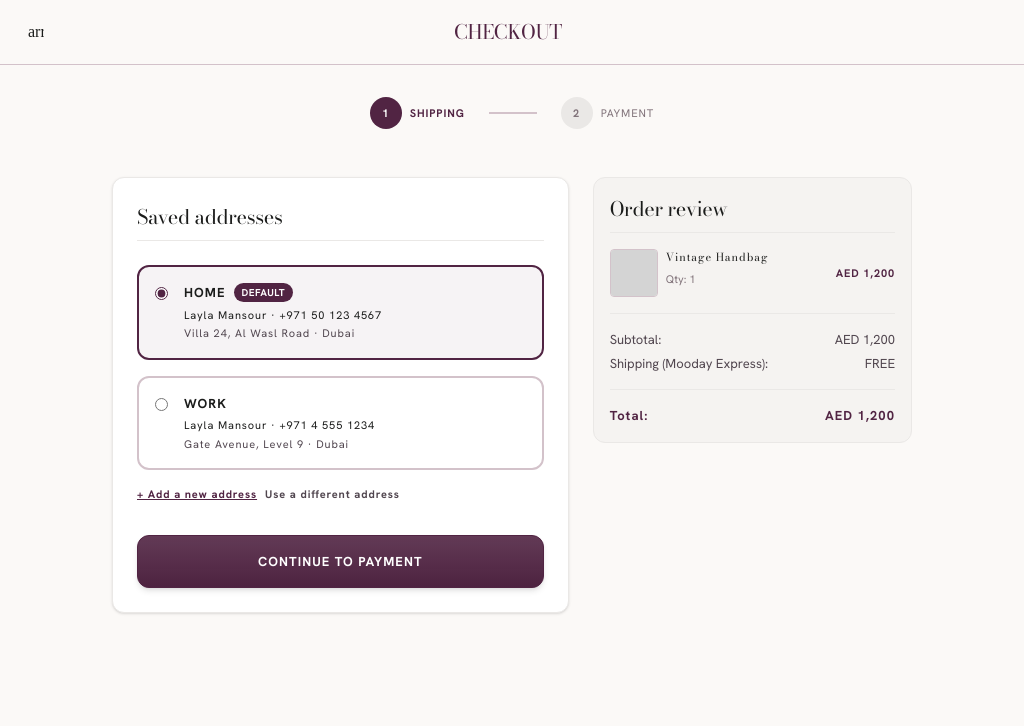
Test: CheckoutFlowView — address step (C-13) › clicking 'Add a new address' reveals the new-address form
Click the button "+ Add a new address" at [197, 494], box [137,486,257,502]
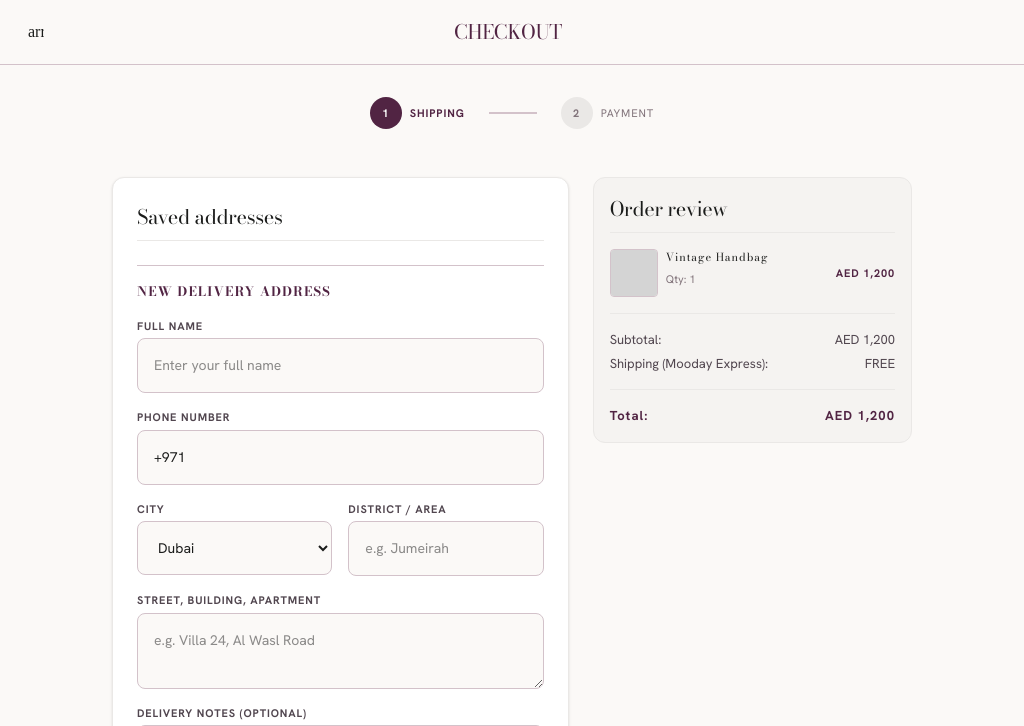
Now the heading "New delivery address" is shown, box [137,281,331,301]
Now the field with placeholder "Enter your full name" is shown, box [137,338,544,393]
Now the field with placeholder "+971 5X XXX XXXX" is shown, box [137,430,544,484]
